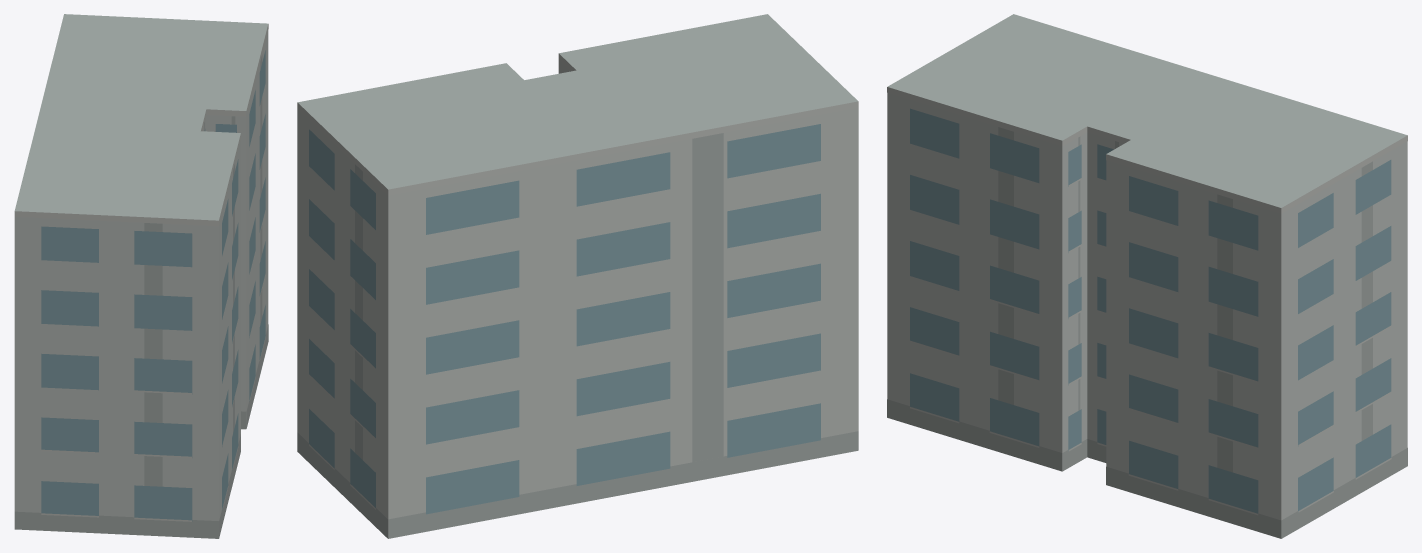
File: survey-upis-33037718.glb
3 views of the same model, side by side, from view 1: azimuth 30°, elevation 25°; view 2: azimuth 150°, elevation 25°; view 3: azimuth 270°, elevation 25° (orthographic). The views are drawn at different scales.
Visible parts, largest first — view 1: survey-upis-33037718.tmp; view 2: survey-upis-33037718.tmp; view 3: survey-upis-33037718.tmp.
Part boxes in pixels (left/top/right/bottom): survey-upis-33037718.tmp: left=14, top=14, right=268, bottom=538; survey-upis-33037718.tmp: left=297, top=14, right=858, bottom=538; survey-upis-33037718.tmp: left=887, top=14, right=1407, bottom=538.
Size of the model in its own units: 16.99 by 13.5 by 19.26.
